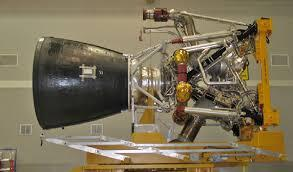thruster: (27, 33, 132, 134)
